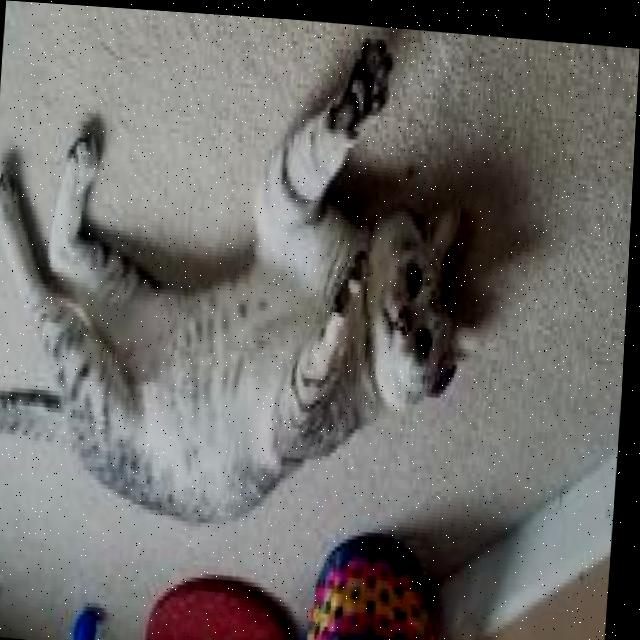Egyptian Mau: (0, 7, 503, 546)
